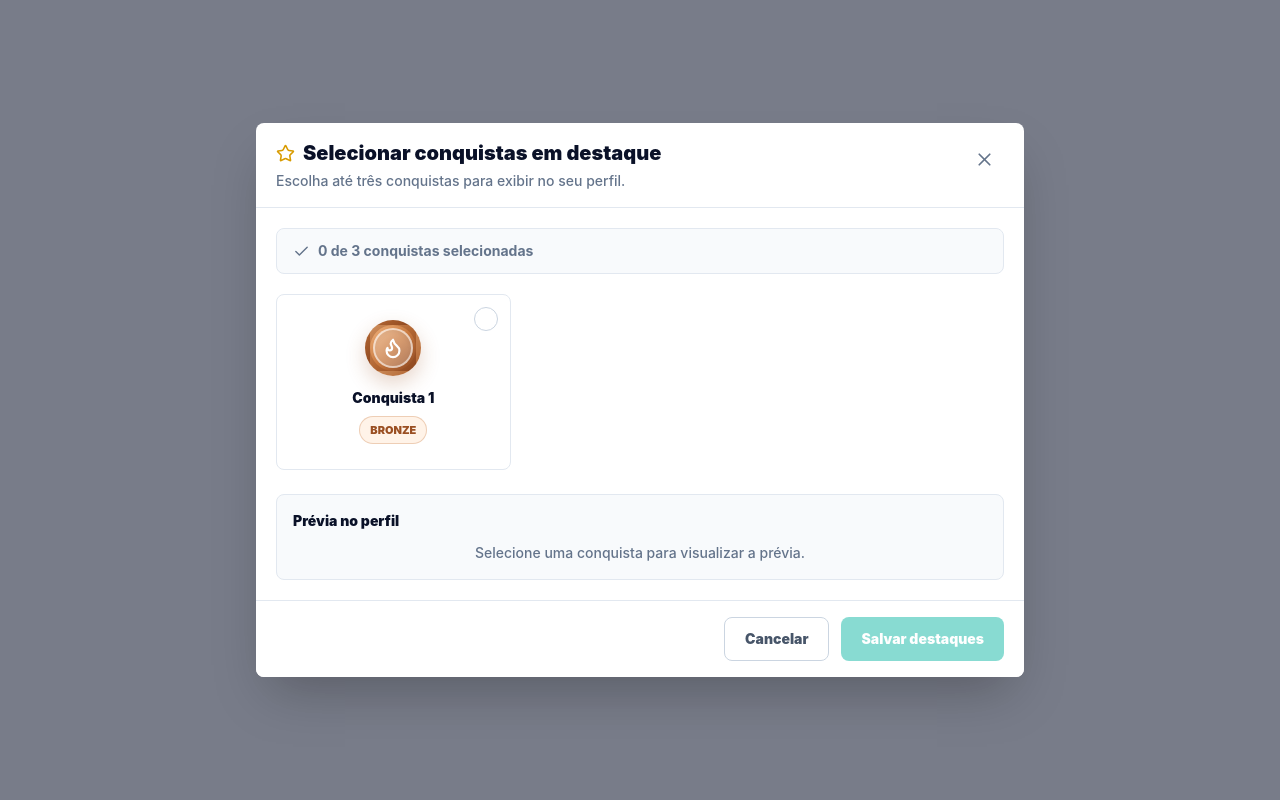
AchievementHighlightsModal › usa mensagem padrão para falhas não tipadas e bloqueia fechamento ao salvar
Click the button "Conquista 1 Bronze": {"x": 393, "y": 382} [276,294,511,470]
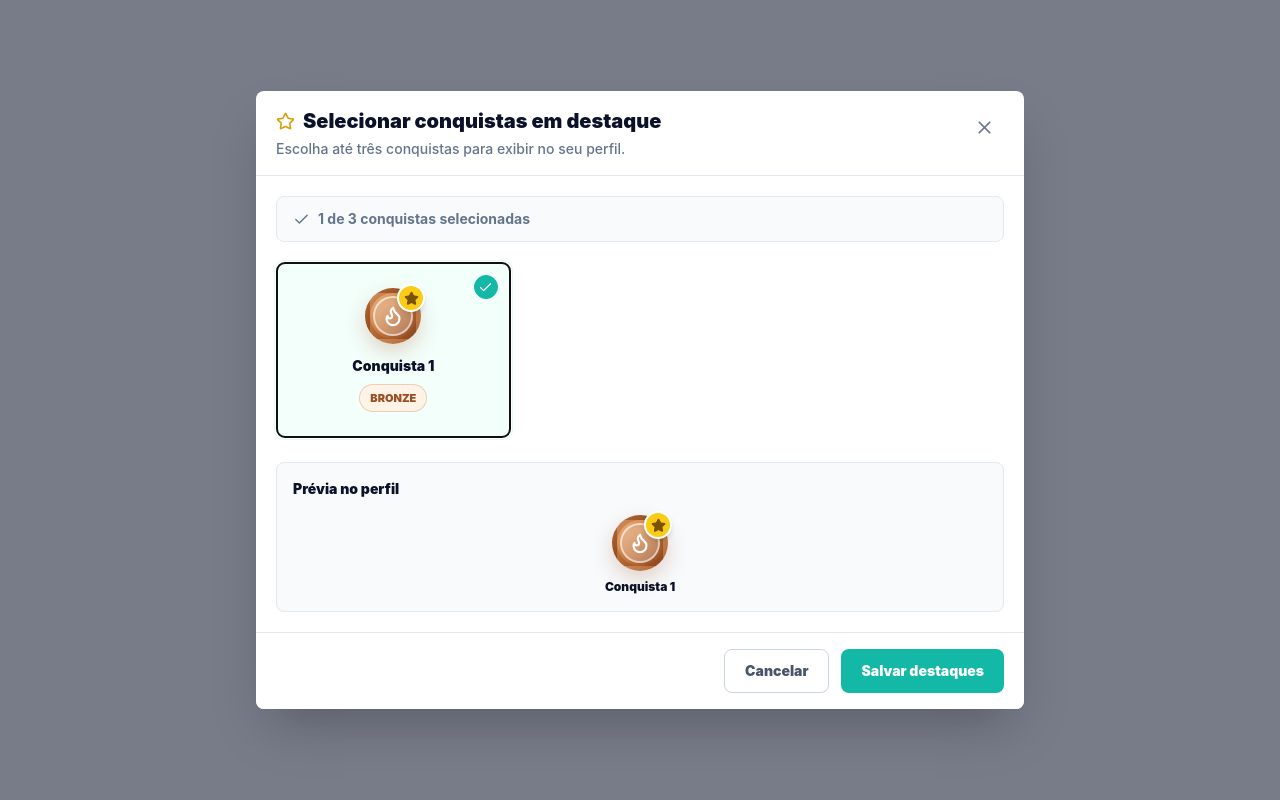
Click the button "Salvar destaques": {"x": 923, "y": 671} [842,649,1004,693]
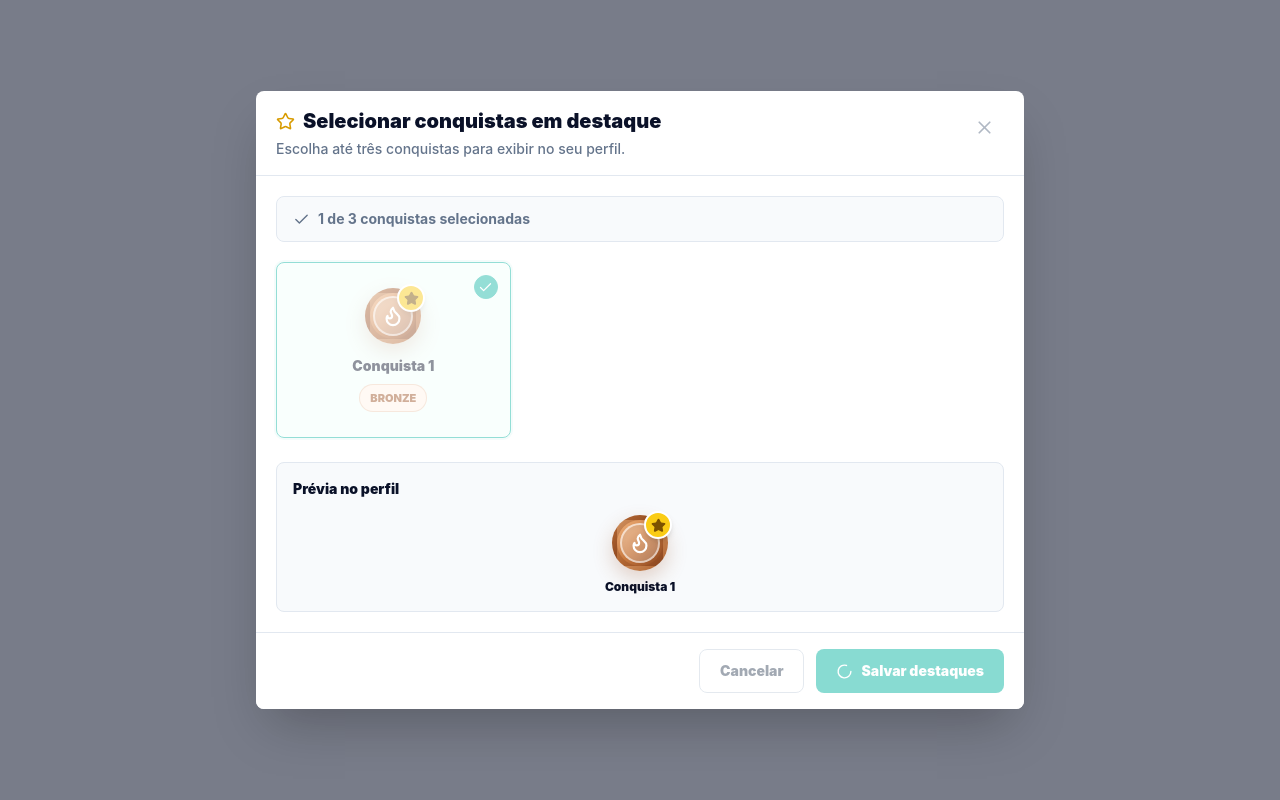
Press Escape
Press the mouse on the element that starts with "Selecionar conquistas em destaque": {"x": 640, "y": 400} [0,0,1279,799]
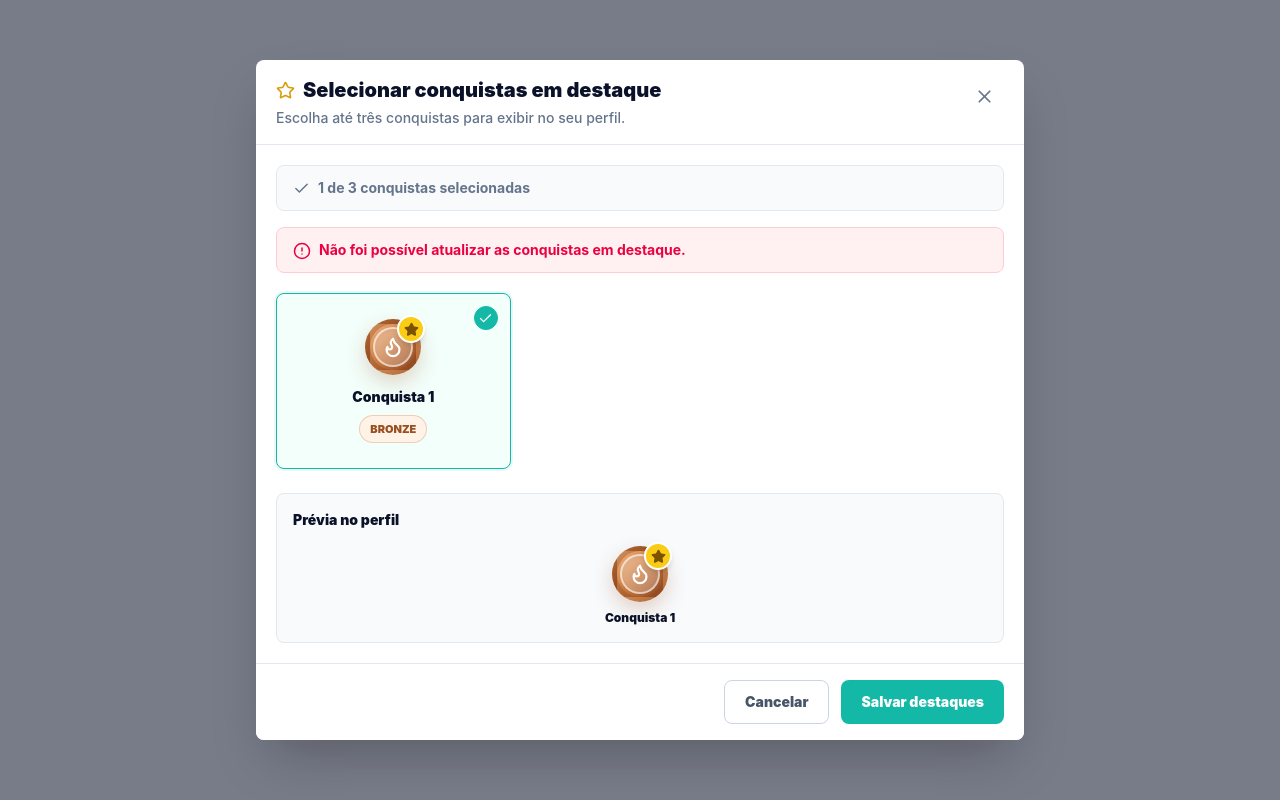
Now the message reads "Não foi possível atualizar as conquistas em destaque.", box [319,241,686,258]
